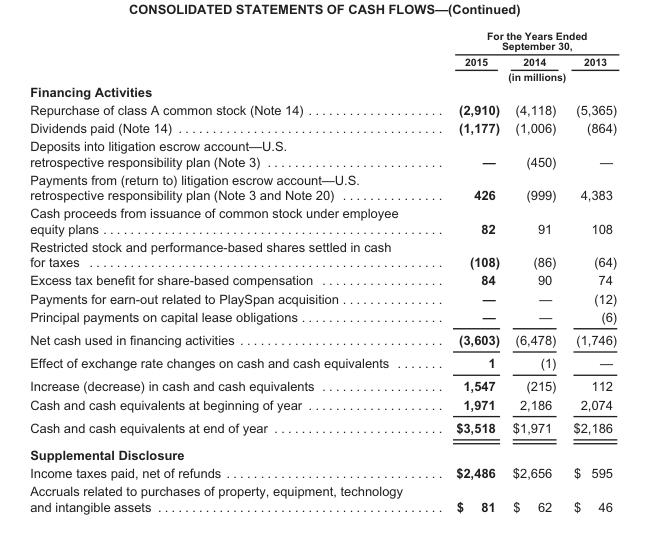table: (29, 29, 616, 513)
table column: (29, 29, 428, 513), (428, 29, 505, 513), (505, 29, 564, 513), (564, 29, 616, 513)
table column header: (29, 29, 616, 83)
table projected row header: (29, 440, 616, 463), (29, 83, 616, 100)
table row: (29, 136, 616, 170), (29, 203, 616, 237), (29, 170, 616, 203), (29, 237, 616, 270), (29, 481, 616, 513), (29, 415, 616, 440), (29, 29, 616, 53), (29, 350, 616, 374), (29, 327, 616, 350), (29, 440, 616, 463), (29, 306, 616, 327), (29, 394, 616, 415), (29, 374, 616, 394), (29, 100, 616, 118), (29, 118, 616, 136), (29, 270, 616, 288), (29, 288, 616, 306), (29, 463, 616, 481), (29, 83, 616, 100), (29, 53, 616, 68), (29, 68, 616, 83)
table spanning cell: (428, 29, 616, 53), (428, 68, 616, 83)
